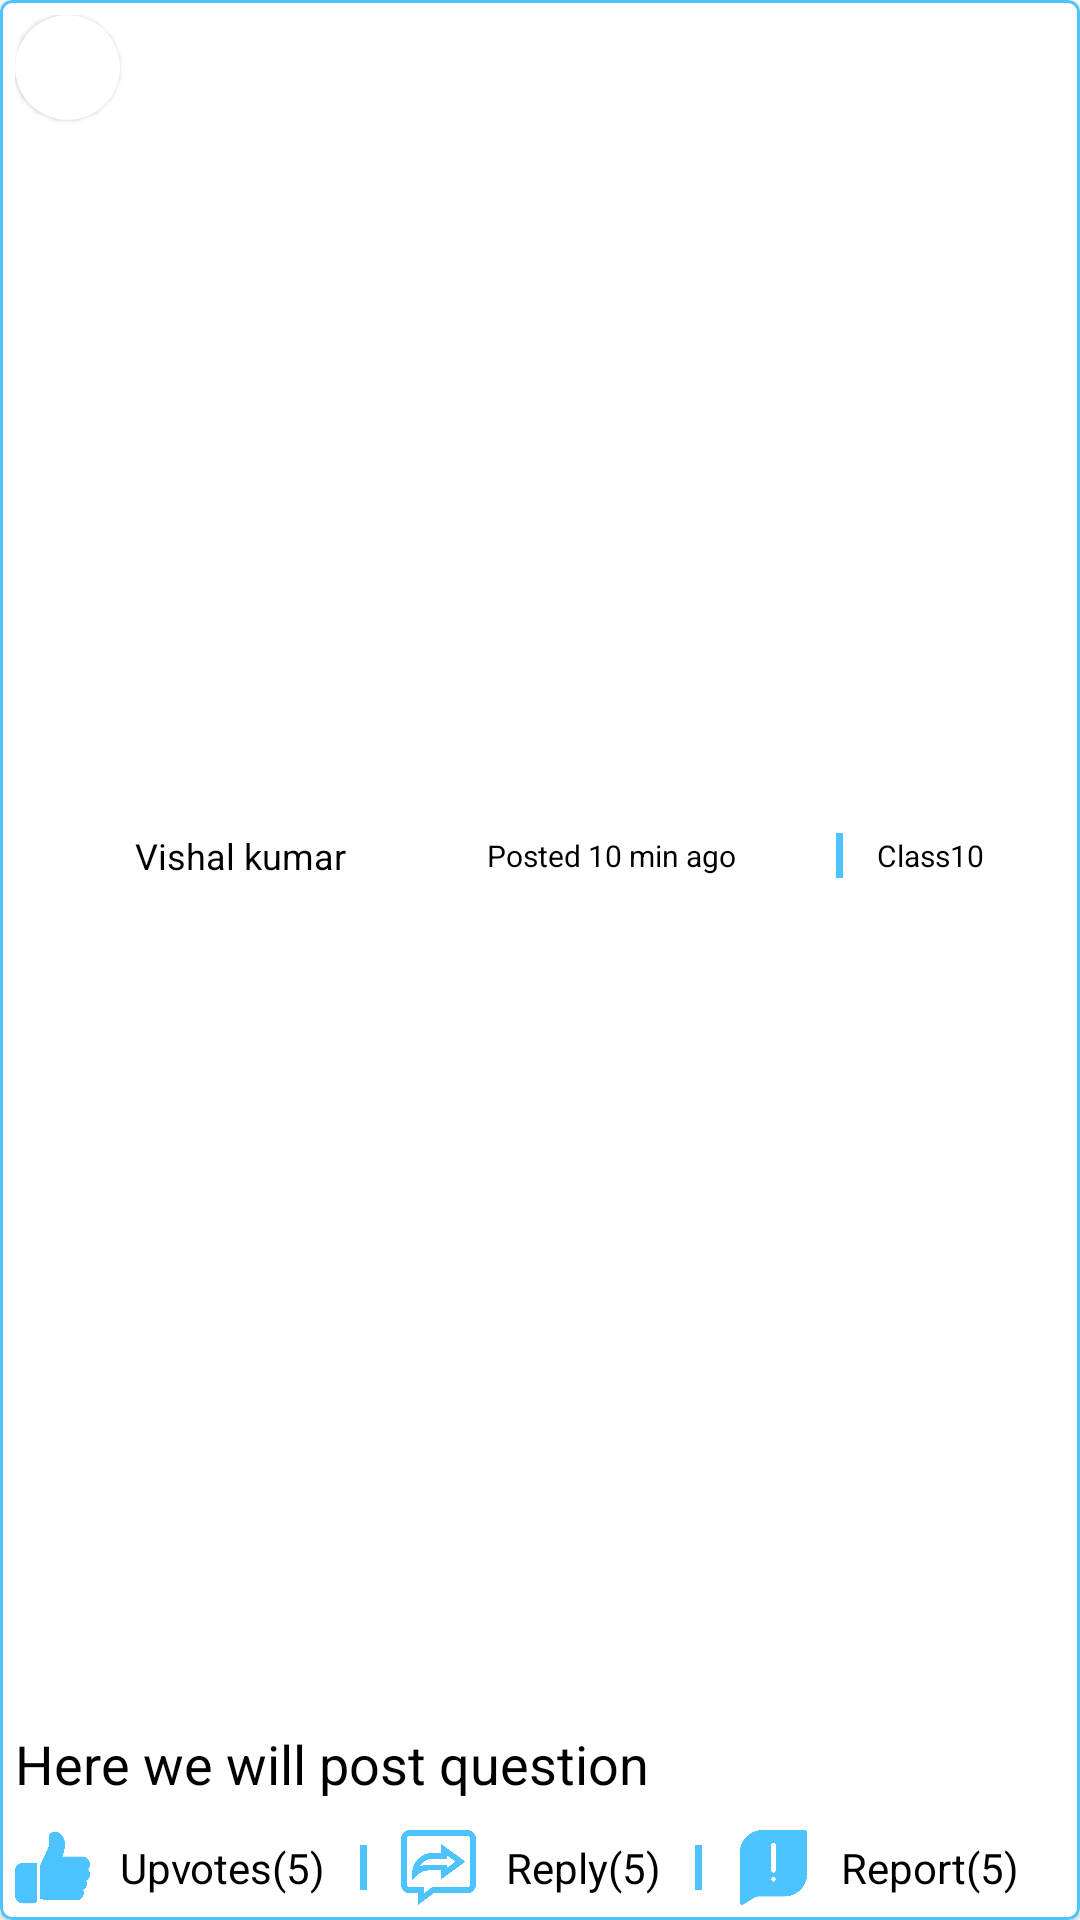

Icons on this 1080 × 1920 Android screen, each with the point to tap as (x,y):
like: (52,1867)
